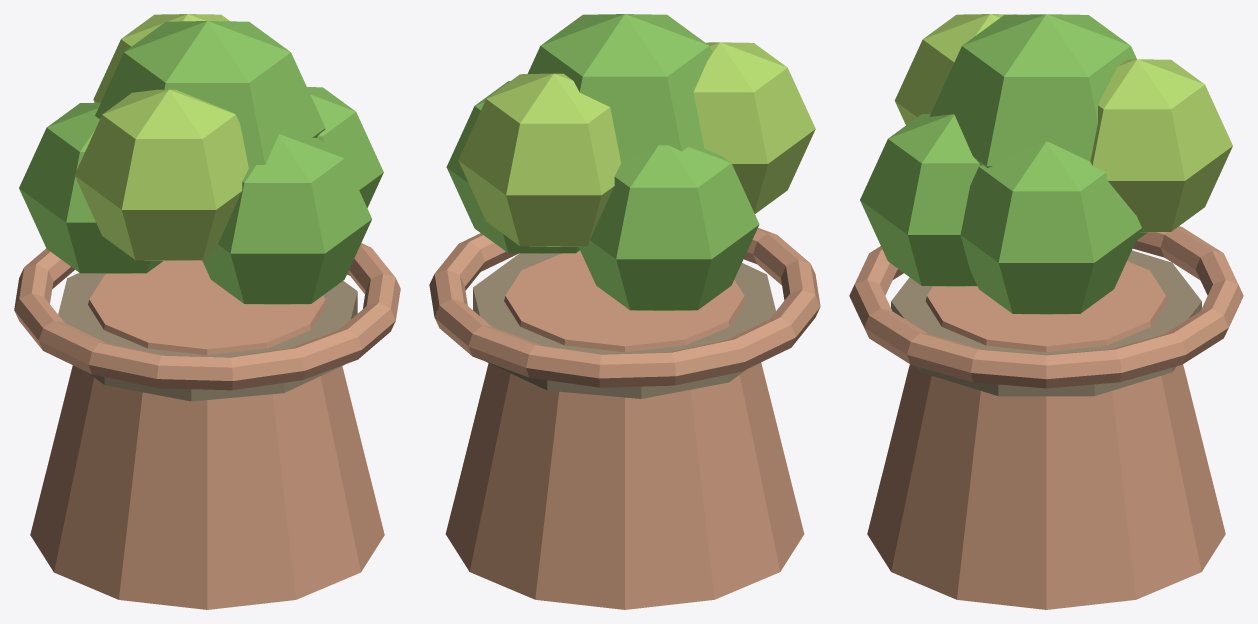
The model's file is Plant_1.glb.
3 views of the same model, side by side, from view 1: azimuth 30°, elevation 25°; view 2: azimuth 150°, elevation 25°; view 3: azimuth 270°, elevation 25° (orthographic).
Visible parts, largest first — view 1: Plant_1; view 2: Plant_1; view 3: Plant_1.
Boxes of the visible parts, bbox=[...] form: Plant_1: bbox=[14, 14, 400, 609]; Plant_1: bbox=[429, 14, 820, 609]; Plant_1: bbox=[849, 14, 1243, 609].
Bounding box in the file's own units: 0.33 × 0.48 × 0.33.
